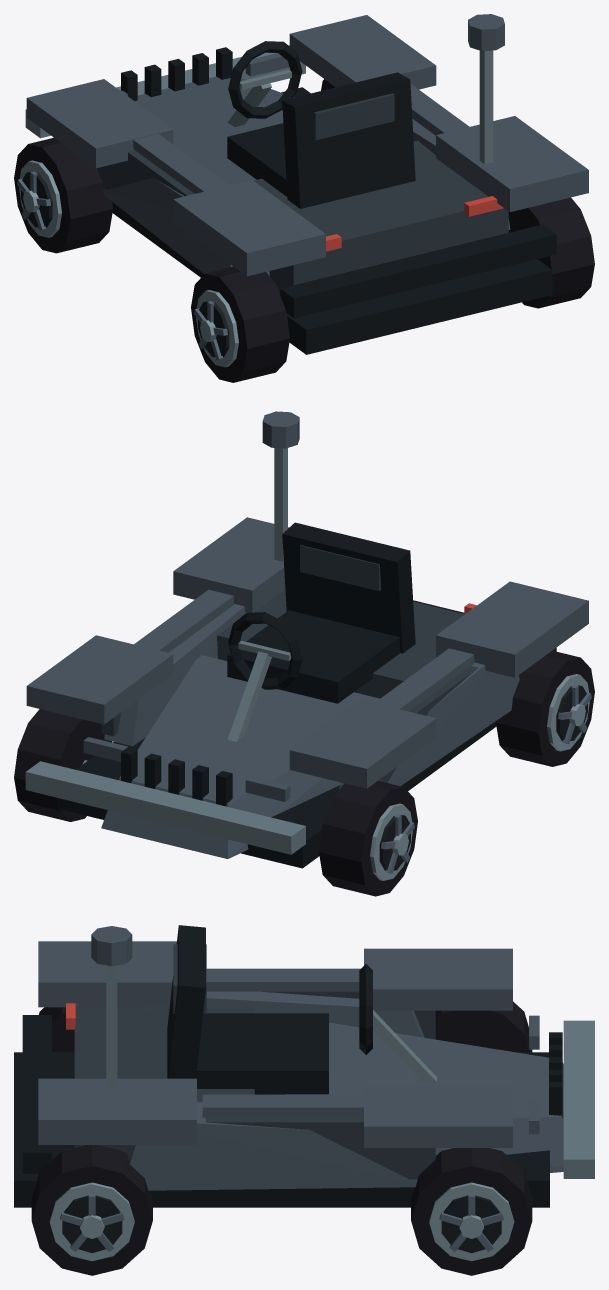
The model's file is kart.glb.
3 renders of one model, top to bottom at view 1: azimuth 30°, elevation 25°; view 2: azimuth 150°, elevation 25°; view 3: azimuth 270°, elevation 25°, orthographic. The views are drawn at different scales.
Parts seen in each view (by area): view 1: chassis, wheel-rear-left, wheel-front-left, wheel-rear-right; view 2: chassis, wheel-front-left, wheel-rear-left, wheel-front-right; view 3: chassis, wheel-rear-right, wheel-front-right, wheel-front-left, wheel-rear-left.
Part boxes in pixels (bbox=[...]): chassis: bbox=[25, 14, 588, 354]; wheel-rear-left: bbox=[191, 266, 289, 382]; wheel-front-left: bbox=[14, 137, 112, 253]; wheel-rear-right: bbox=[508, 197, 594, 308]; chassis: bbox=[25, 411, 588, 868]; wheel-front-left: bbox=[319, 781, 417, 896]; wheel-rear-left: bbox=[496, 650, 594, 766]; wheel-front-right: bbox=[14, 709, 112, 821]; chassis: bbox=[14, 925, 594, 1207]; wheel-rear-right: bbox=[31, 1145, 152, 1275]; wheel-front-right: bbox=[411, 1148, 532, 1275]; wheel-front-left: bbox=[435, 1001, 532, 1052]; wheel-rear-left: bbox=[39, 1007, 74, 1052].
Bounding box in the file's own units: 2.37 × 1.72 × 2.97.
